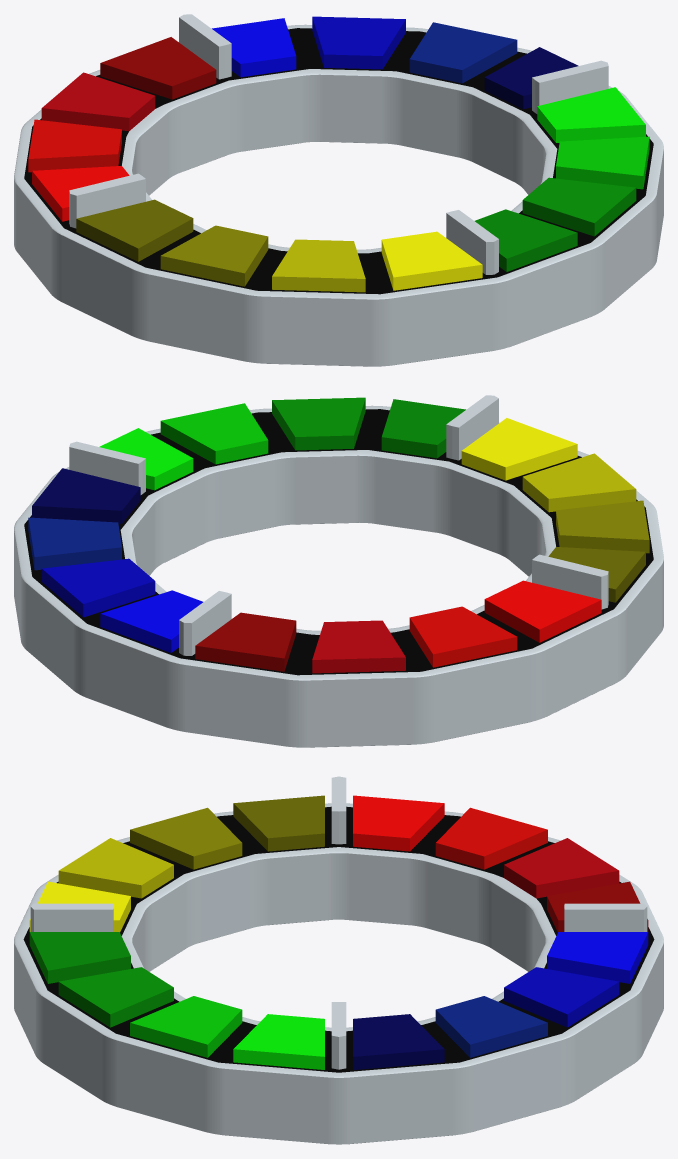
Rendered from core_ring.fbx.
3 views of the same model, one above another, from view 1: azimuth 30°, elevation 25°; view 2: azimuth 150°, elevation 25°; view 3: azimuth 270°, elevation 25° (orthographic).
Visible parts, largest first — view 1: Cylinder; view 2: Cylinder; view 3: Cylinder.
Part boxes in pixels (x1=…): Cylinder: x1=14, y1=14, x2=663, y2=366; Cylinder: x1=14, y1=395, x2=663, y2=747; Cylinder: x1=14, y1=776, x2=663, y2=1144.
Bounding box in the file's own units: 199 × 34.33 × 199.
